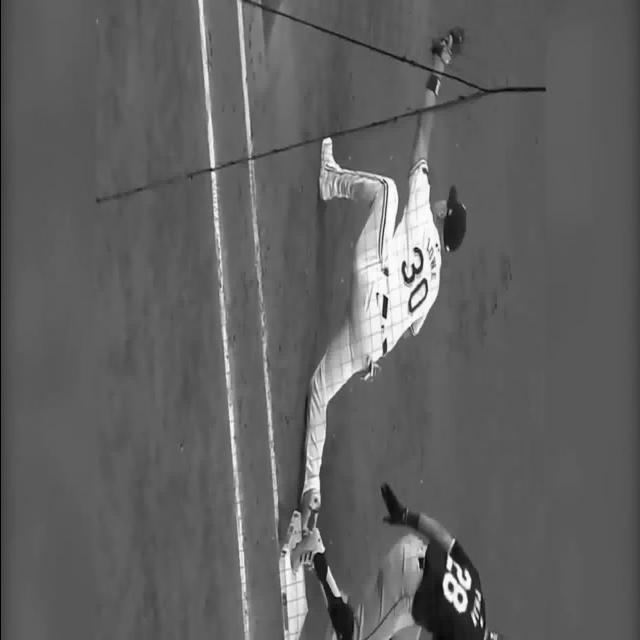base: (279, 511, 308, 640)
baseball_glove: (431, 27, 466, 64)
shoe: (290, 529, 324, 573), (318, 138, 339, 200), (299, 489, 320, 531)
